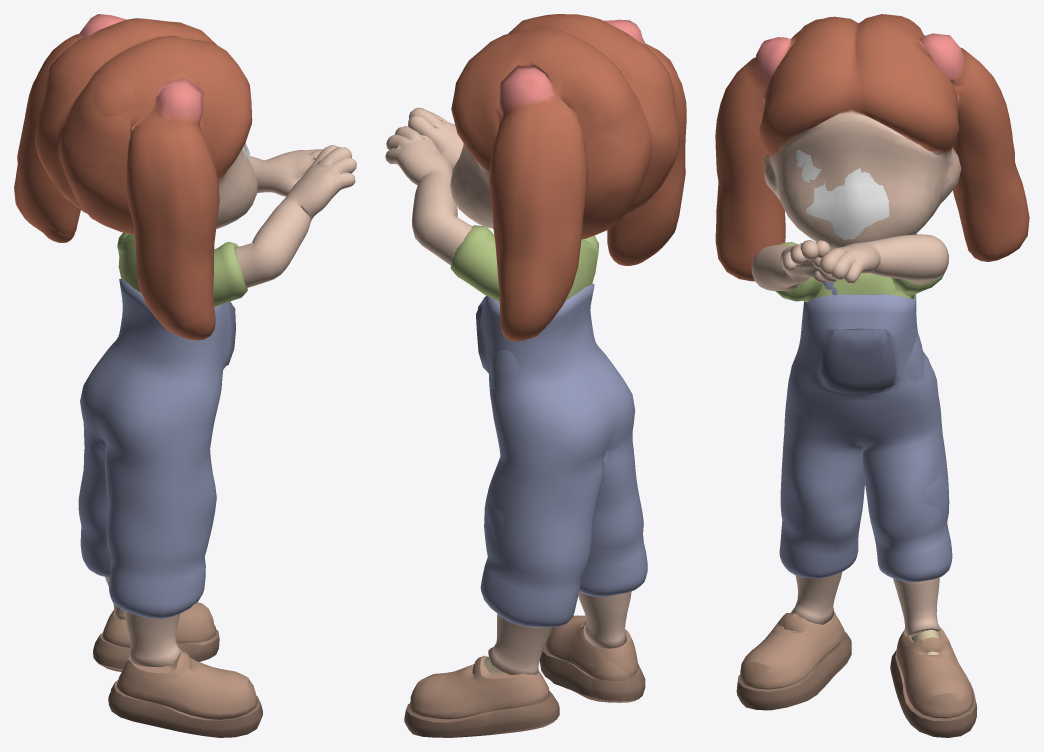
3 renders of one model, left to right at view 1: azimuth 30°, elevation 25°; view 2: azimuth 150°, elevation 25°; view 3: azimuth 270°, elevation 25°, orthographic. The views are drawn at different scales.
Parts seen in each view (by area): view 1: Arms.048; view 2: Arms.048; view 3: Arms.048.
Boxes of the visible parts, left/top/right/bottom form: Arms.048: left=14, top=14, right=356, bottom=737; Arms.048: left=385, top=14, right=686, bottom=737; Arms.048: left=715, top=14, right=1029, bottom=737.
Size of the model in its own units: 71.36 by 165 by 70.86.
